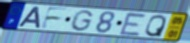8: (95, 10, 117, 34)
A: (17, 6, 41, 29)
E: (118, 11, 148, 37)
F: (39, 6, 70, 31)
G: (69, 9, 95, 32)
Q: (144, 14, 168, 38)
